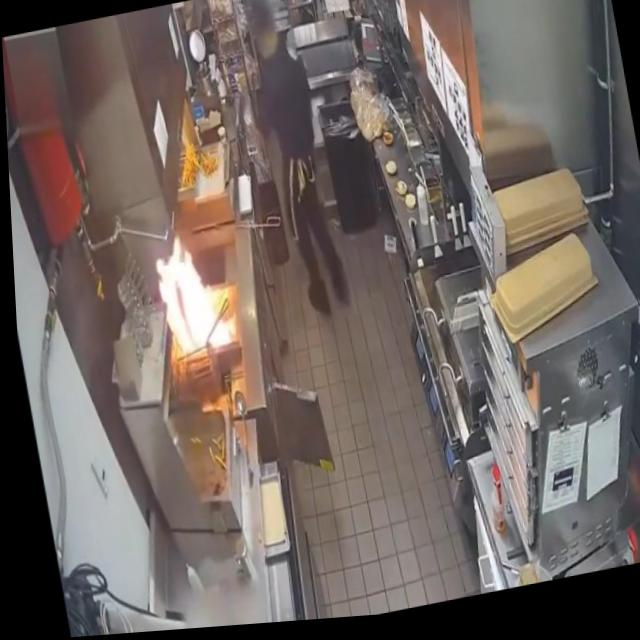fire: (142, 221, 233, 375)
